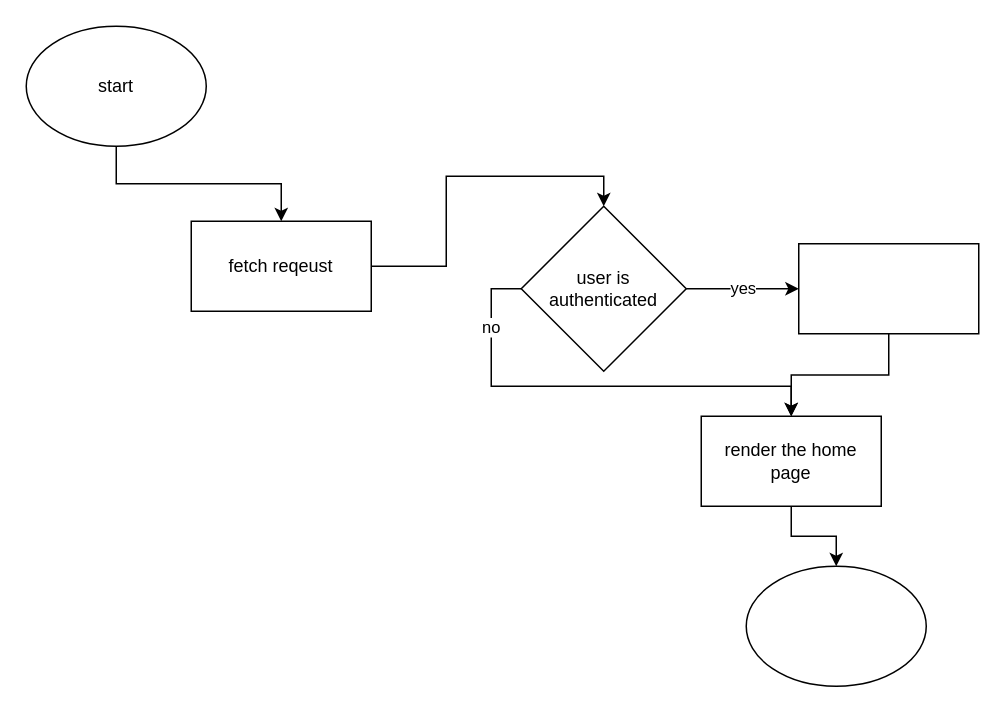
This 1005x713 diagram has some shape labels left out. Here are the shapes that lost their labels. From the top down, the centre of each, then its label:
At point (888, 288): "get the number of unread messages".
At point (835, 625): "end".
